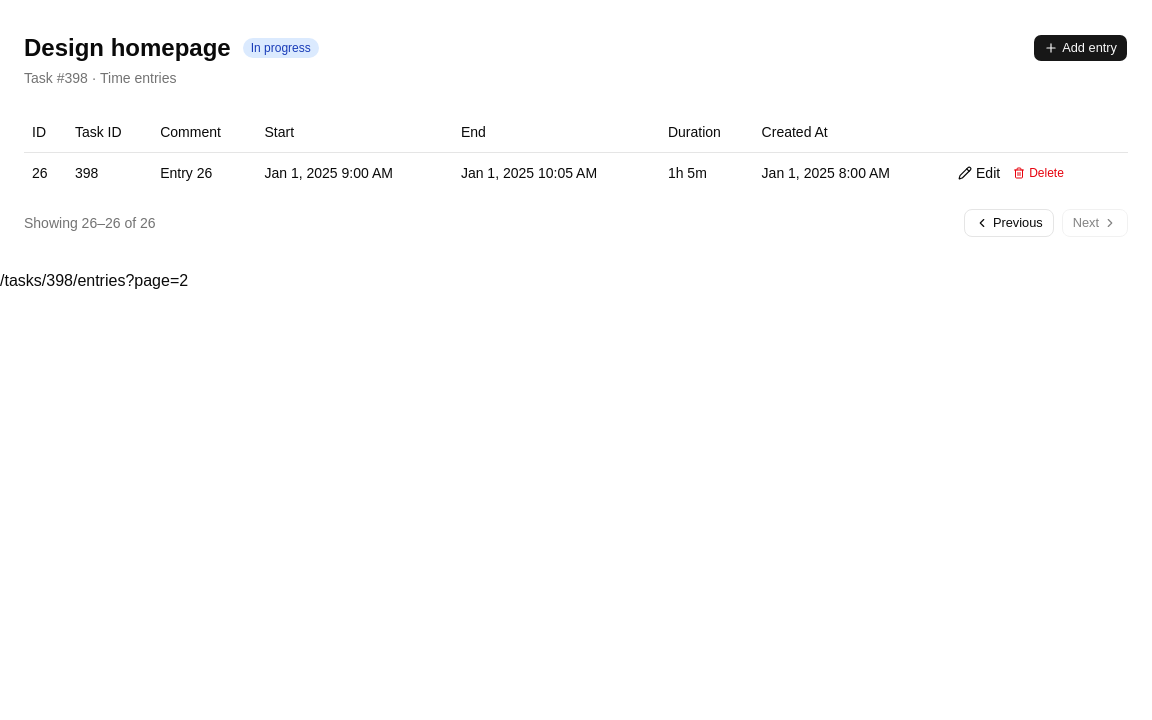
Test case: TaskEntriesPage › deleting › moves to the last page when the current one becomes empty
The image size is (1152, 720).
Step 1. Click the button named "Delete entry 26" → click(1039, 172), box [1004, 160, 1073, 184]
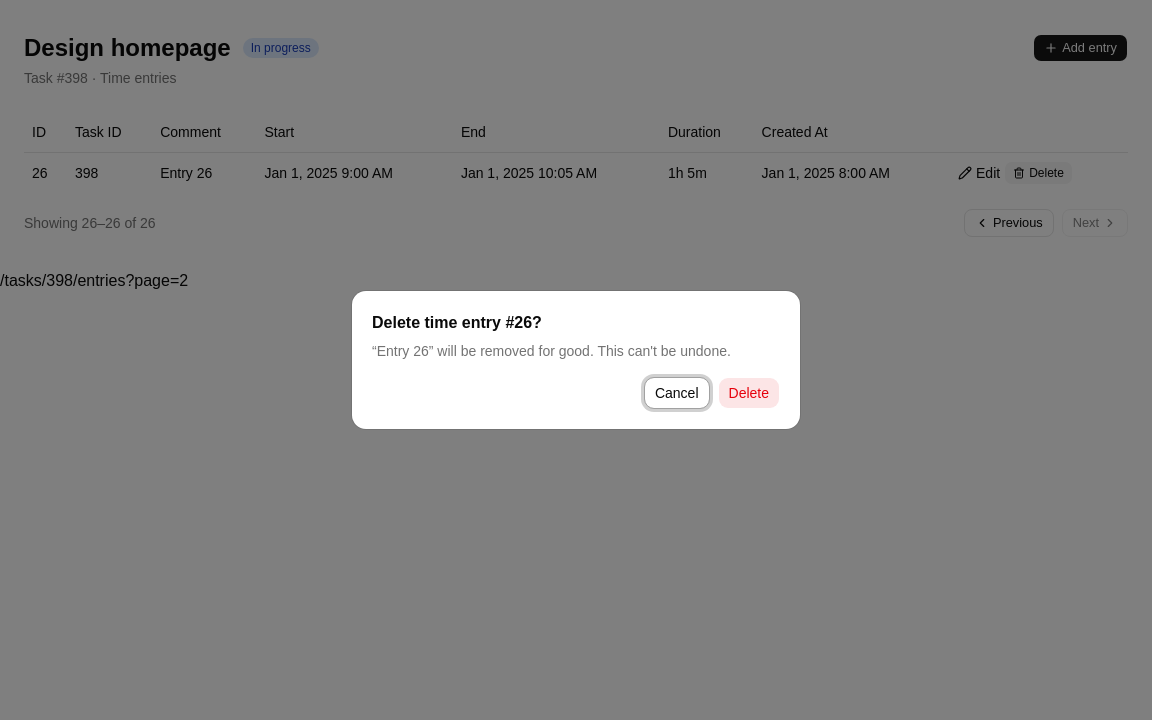
Step 2. Click the button "Delete" → click(749, 393), box [718, 377, 780, 409]
(page scrolled)
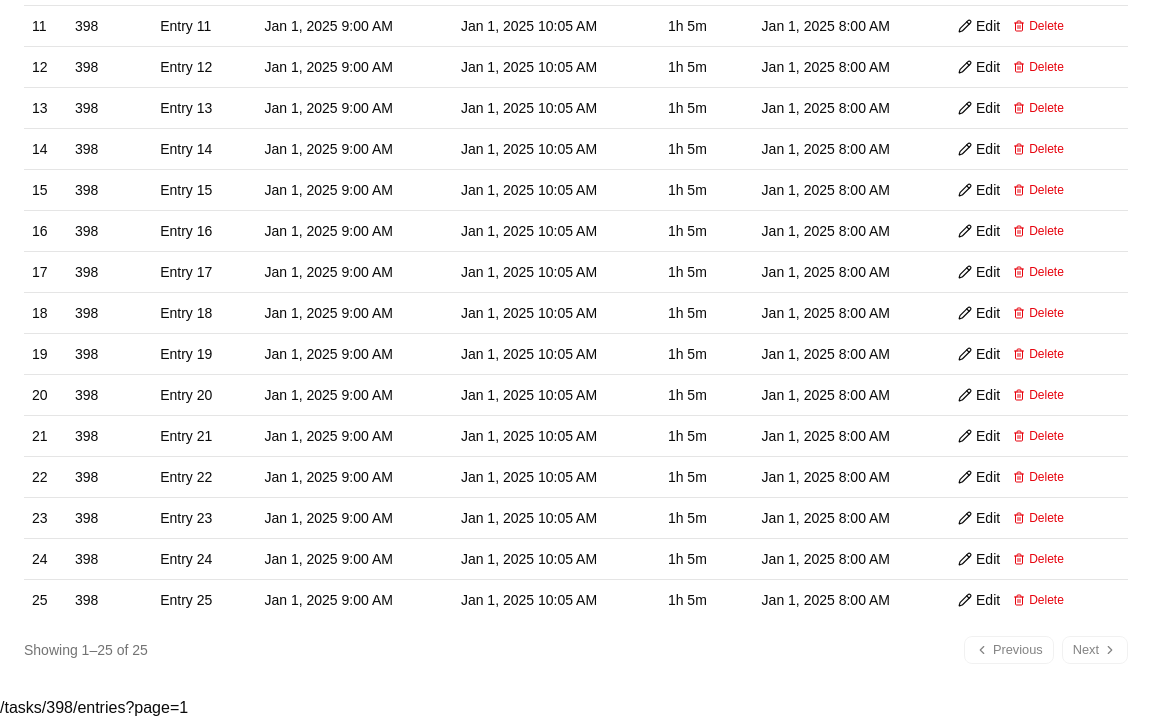
Result: the text "Showing 1–25 of 25" is shown at [24, 640, 148, 660]
Result: the text with test id "location" reads "/tasks/398/entries?page=1" at [0, 698, 188, 716]
